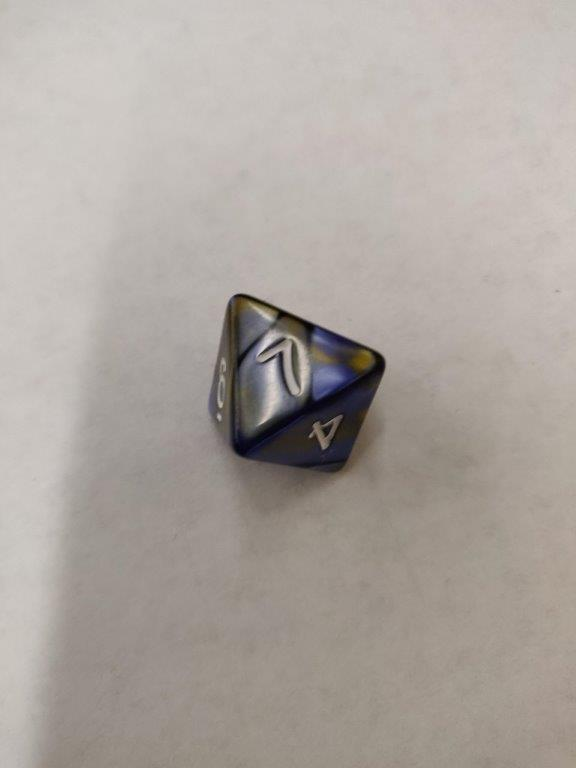d8-7: (210, 291, 388, 471)
